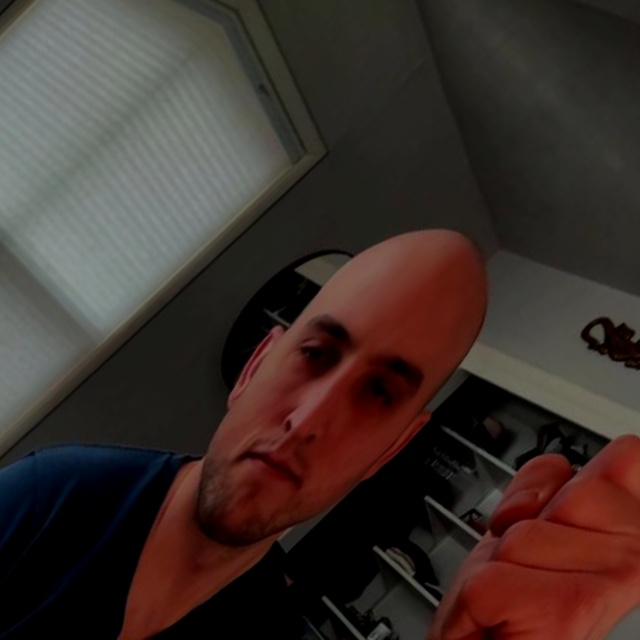Rock: (314, 387, 640, 640)
